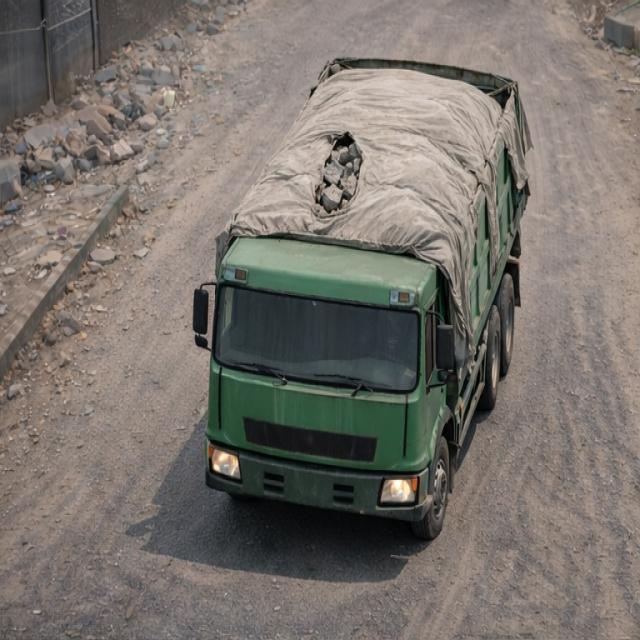Box: (234, 56, 528, 241)
Truck: (189, 45, 570, 504)
